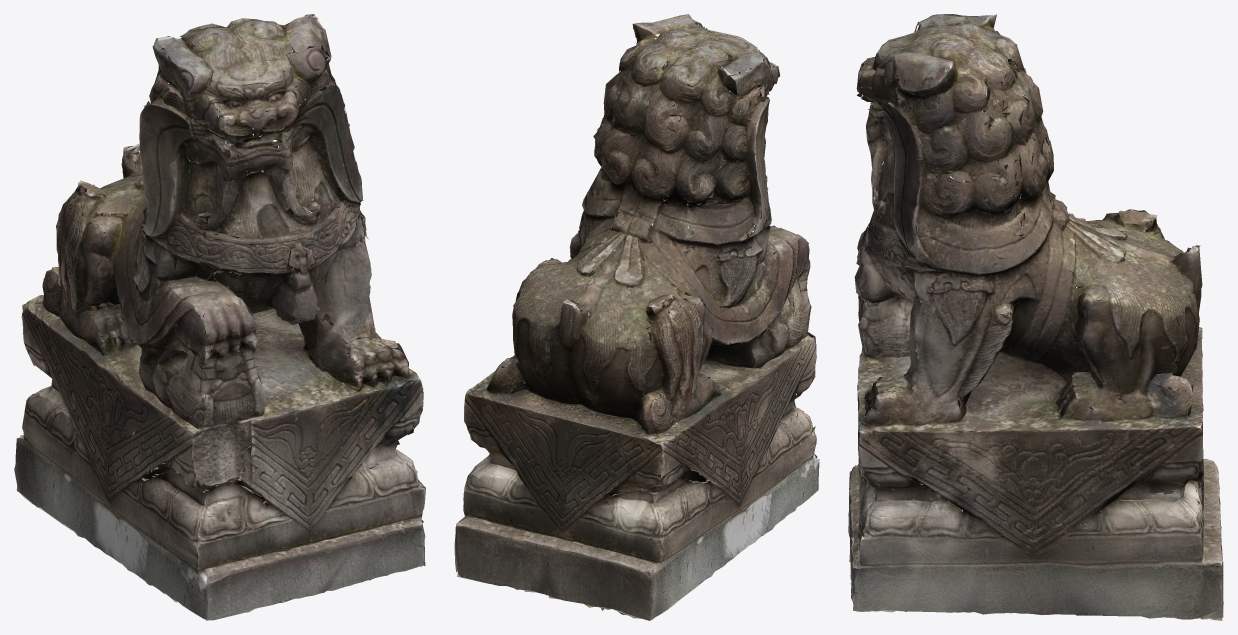
Rendered from lion.glb.
3 views of the same model, side by side, from view 1: azimuth 30°, elevation 25°; view 2: azimuth 150°, elevation 25°; view 3: azimuth 270°, elevation 25° (orthographic). The views are drawn at different scales.
Visible parts, largest first — view 1: Object_2; view 2: Object_2; view 3: Object_2.
Part boxes in pixels (x1=…): Object_2: x1=14, y1=14, x2=425, y2=620; Object_2: x1=454, y1=14, x2=819, y2=620; Object_2: x1=848, y1=14, x2=1223, y2=620.
Bounding box in the file's own units: 1.94 × 4.3 × 2.79.
1 material, 1 textured.
